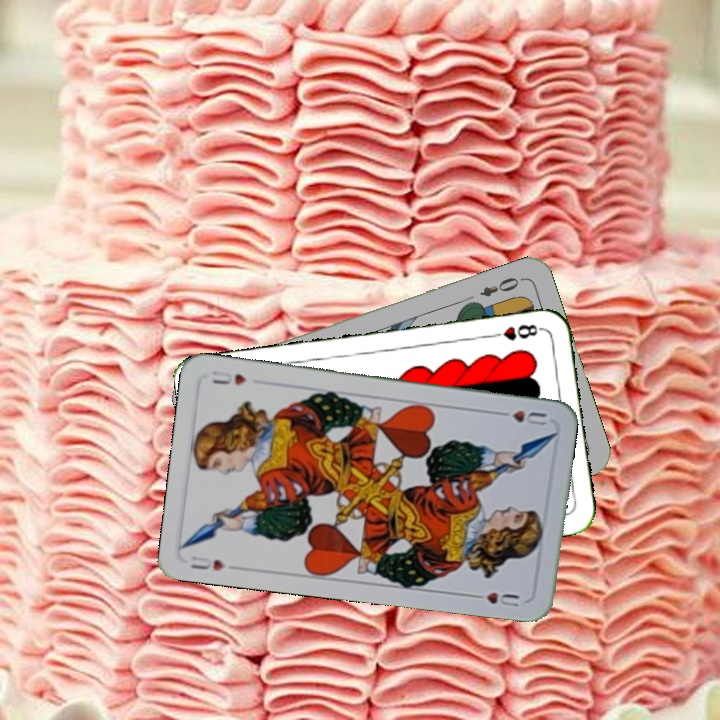EO: (476, 273, 526, 300)
H8: (486, 320, 545, 343)
HU: (492, 406, 549, 428), (187, 552, 228, 573)
